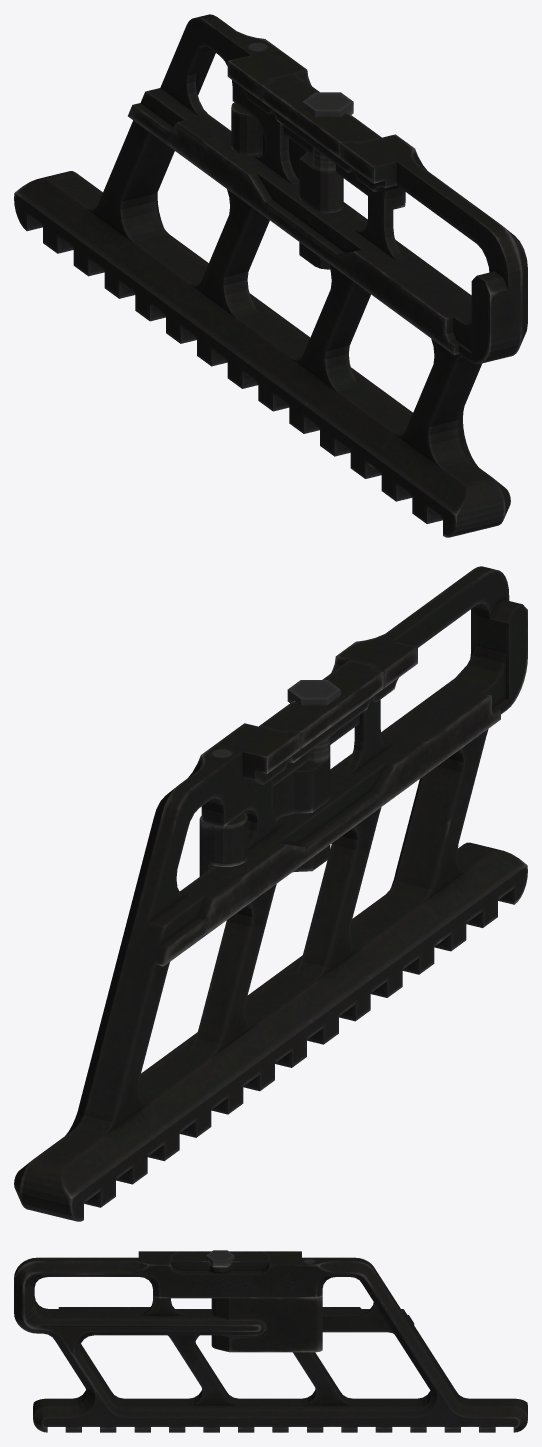
3 renders of one model, top to bottom at view 1: azimuth 30°, elevation 25°; view 2: azimuth 150°, elevation 25°; view 3: azimuth 270°, elevation 25°, orthographic. The views are drawn at different scales.
Visible parts, largest first — view 1: TW_65f1b1176dbd6c5ba2082eed_PZ_Import; view 2: TW_65f1b1176dbd6c5ba2082eed_PZ_Import; view 3: TW_65f1b1176dbd6c5ba2082eed_PZ_Import.
Part boxes in pixels (left/top/right/bottom): TW_65f1b1176dbd6c5ba2082eed_PZ_Import: left=14, top=14, right=527, bottom=537; TW_65f1b1176dbd6c5ba2082eed_PZ_Import: left=14, top=566, right=527, bottom=1221; TW_65f1b1176dbd6c5ba2082eed_PZ_Import: left=14, top=1250, right=527, bottom=1432.
Bounding box in the file's own units: 0.0068 × 0.0861 × 0.0323.
Materials: 1 (1 with a texture image).
